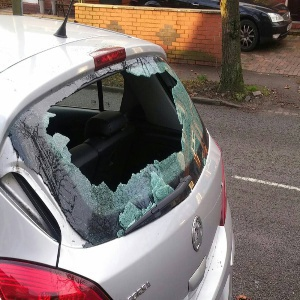rear_windshield_glass: (31, 89, 198, 186)
